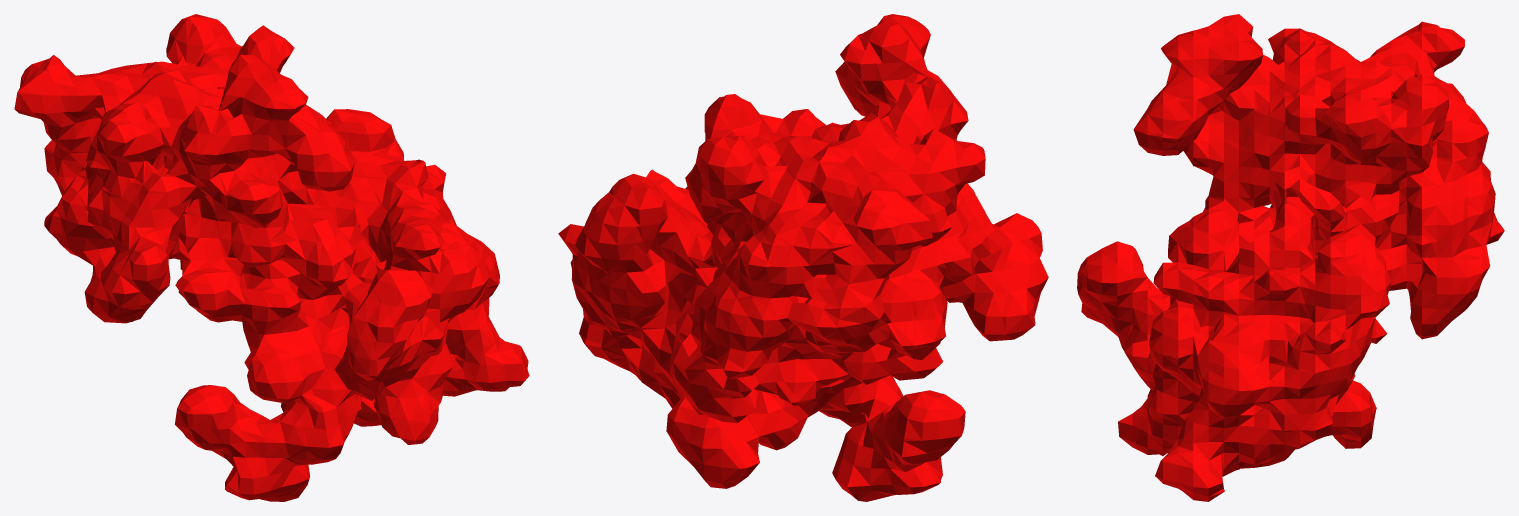
The model's file is rpoZ_coarse.dae.
The picture shows the model from 3 angles, left to right: view 1: azimuth 30°, elevation 25°; view 2: azimuth 150°, elevation 25°; view 3: azimuth 270°, elevation 25°; orthographic projection. The views are drawn at different scales.
Visible parts, largest first — view 1: rpoZ; view 2: rpoZ; view 3: rpoZ.
Boxes of the visible parts, box(x1,y1,x2,y2) form: rpoZ: box(14, 14, 529, 501); rpoZ: box(558, 14, 1048, 501); rpoZ: box(1077, 14, 1504, 501).
Bounding box in the file's own units: 210 × 218 × 195.
